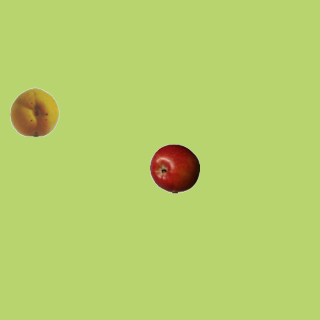Apple Braeburn: (149, 143, 199, 193)
Peach 2: (9, 86, 59, 136)
